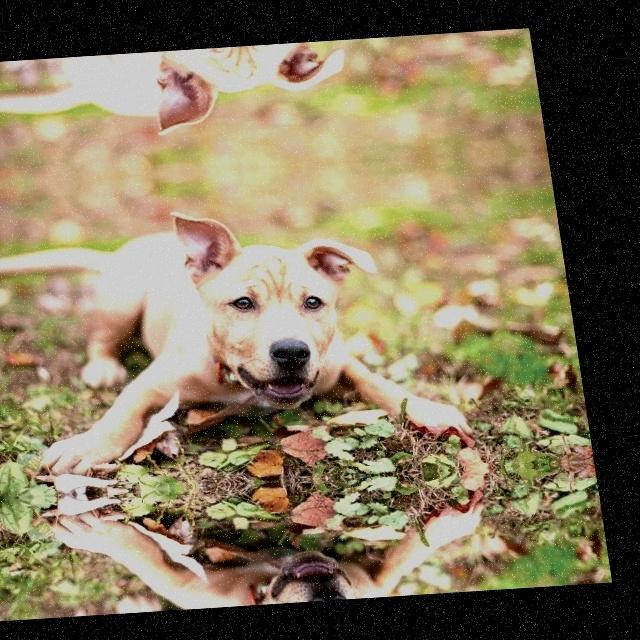dog: (0, 196, 475, 488), (0, 479, 495, 621), (0, 36, 424, 147)
